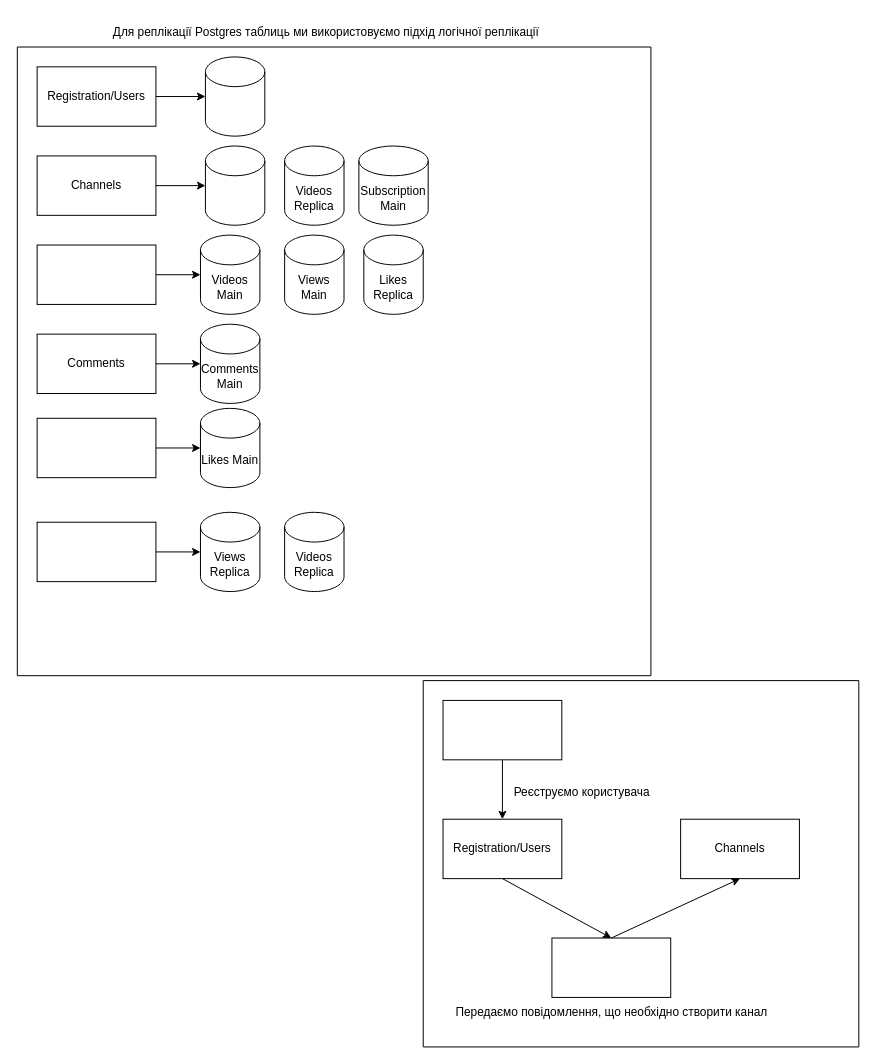
Some shapes in this 876 by 1064 pixel diagram are drawn without their labels. Each missing label, with the box of its shape:
Channels Main: (204, 145, 265, 225)
Gateway: (442, 699, 562, 760)
Likes: (36, 417, 156, 478)
Message Broker: (551, 937, 671, 997)
Suggestions: (36, 521, 156, 582)
Users Main: (204, 56, 265, 136)
Videos: (36, 244, 156, 304)
